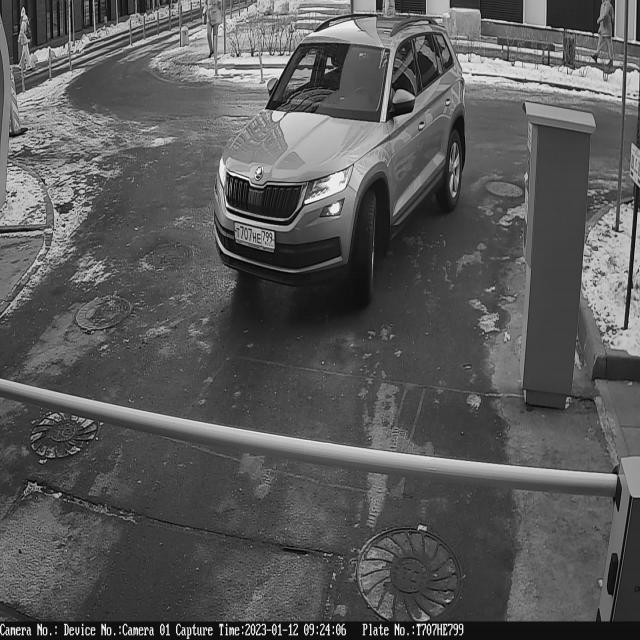car-plate-numbers: (232, 213, 283, 260)
